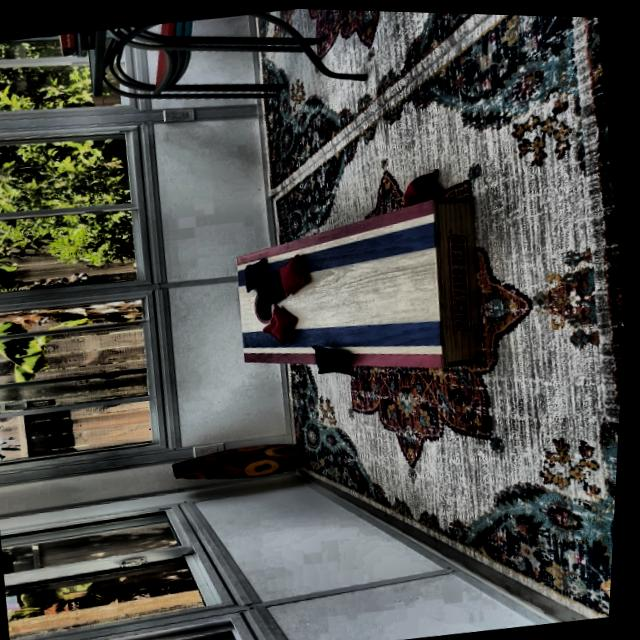blue-bean-bag: (313, 339, 360, 380), (242, 256, 273, 292), (256, 269, 285, 306)
board: (233, 220, 452, 373)
hole: (253, 290, 279, 323)
red-bean-bag: (261, 301, 304, 347), (399, 166, 445, 206), (278, 252, 311, 295)
